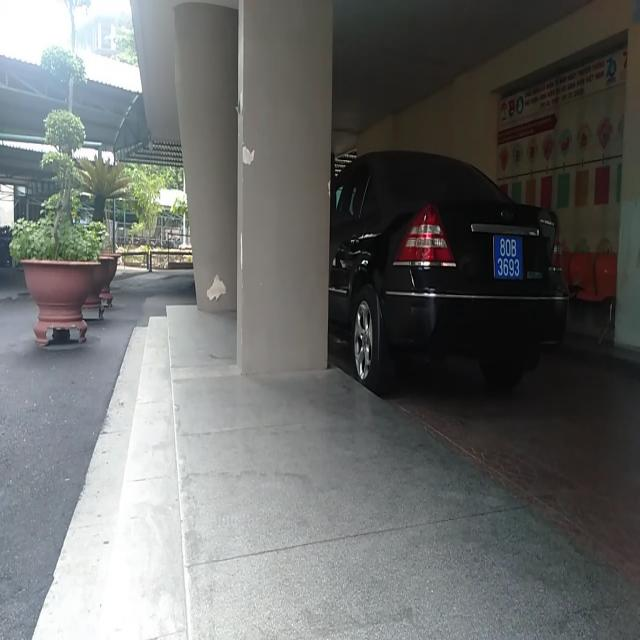bien_xanh: (489, 233, 523, 284)
